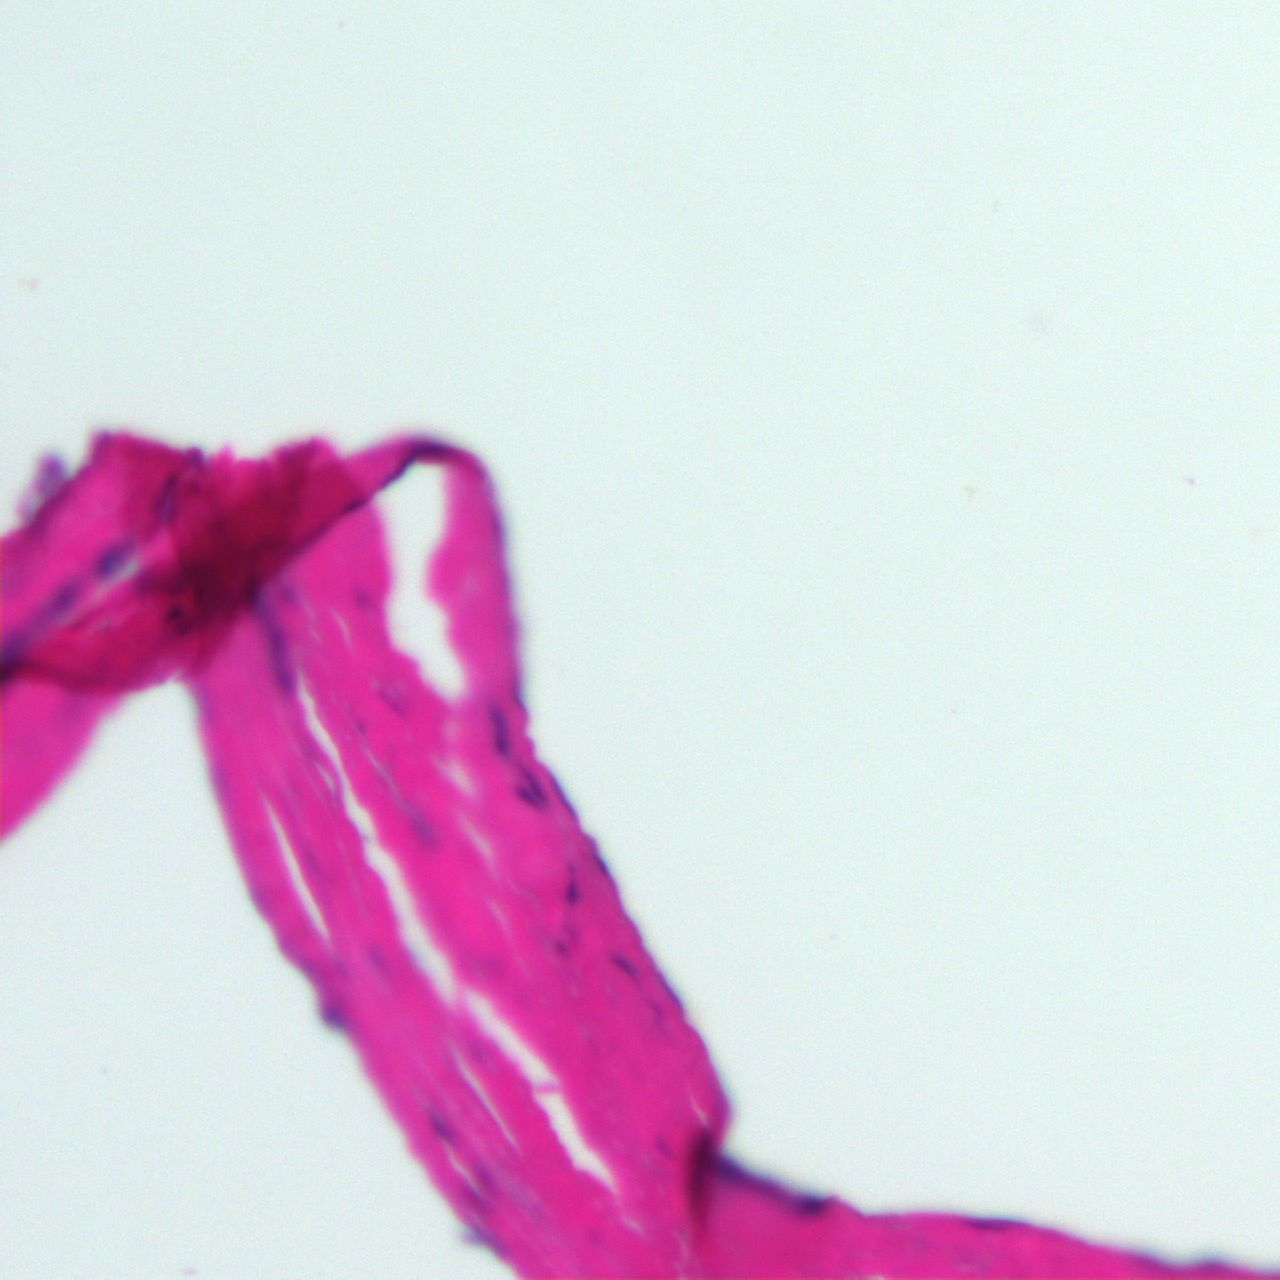nucleus-HE: (697, 1138, 843, 1227), (232, 574, 302, 694), (365, 427, 450, 496), (384, 787, 456, 863), (502, 760, 556, 818), (87, 527, 139, 585), (416, 1098, 464, 1155), (605, 948, 649, 990), (488, 697, 511, 753), (958, 1216, 1026, 1232), (316, 990, 343, 1030), (563, 876, 580, 904)
